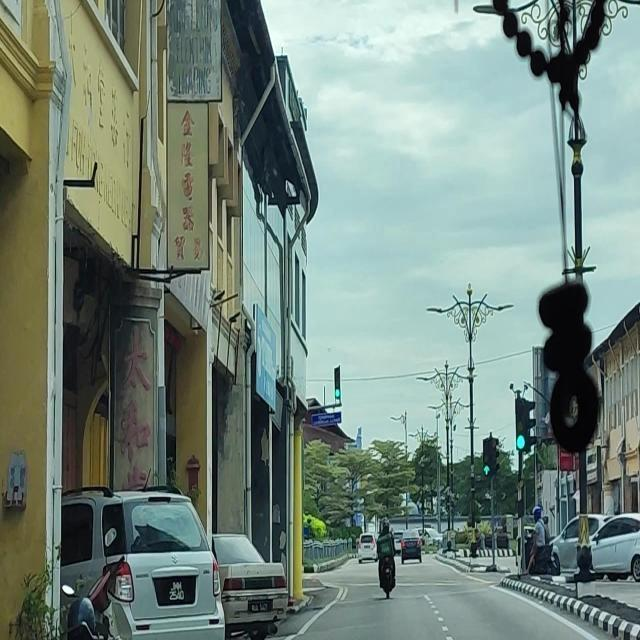Green: (516, 397, 526, 451), (482, 437, 490, 474), (334, 368, 341, 400)
